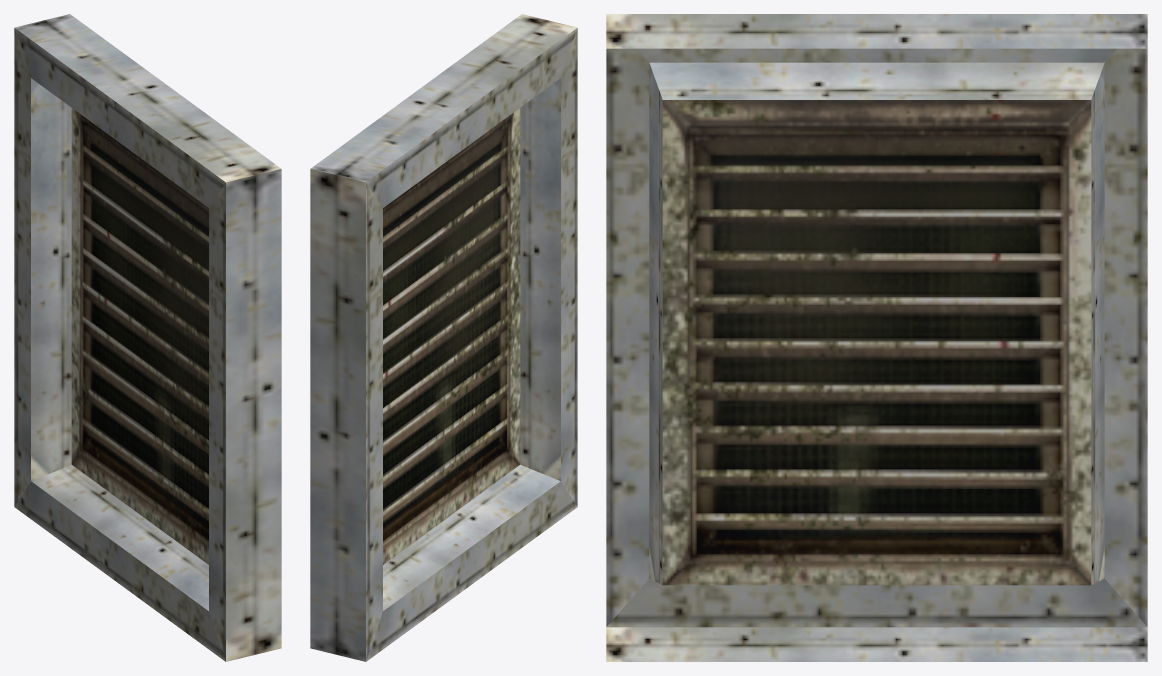
File: vent_03.fbx
The picture shows the model from 3 angles, left to right: view 1: azimuth 30°, elevation 25°; view 2: azimuth 150°, elevation 25°; view 3: azimuth 270°, elevation 25°; orthographic projection. The views are drawn at different scales.
Visible parts, largest first — view 1: vent_03; view 2: vent_03; view 3: vent_03.
Part boxes in pixels (x1=…): vent_03: x1=14, y1=14, x2=281, y2=661; vent_03: x1=310, y1=14, x2=577, y2=661; vent_03: x1=606, y1=14, x2=1147, y2=661.
Bounding box in the file's own units: 0.1202 × 0.9881 × 0.7905.
